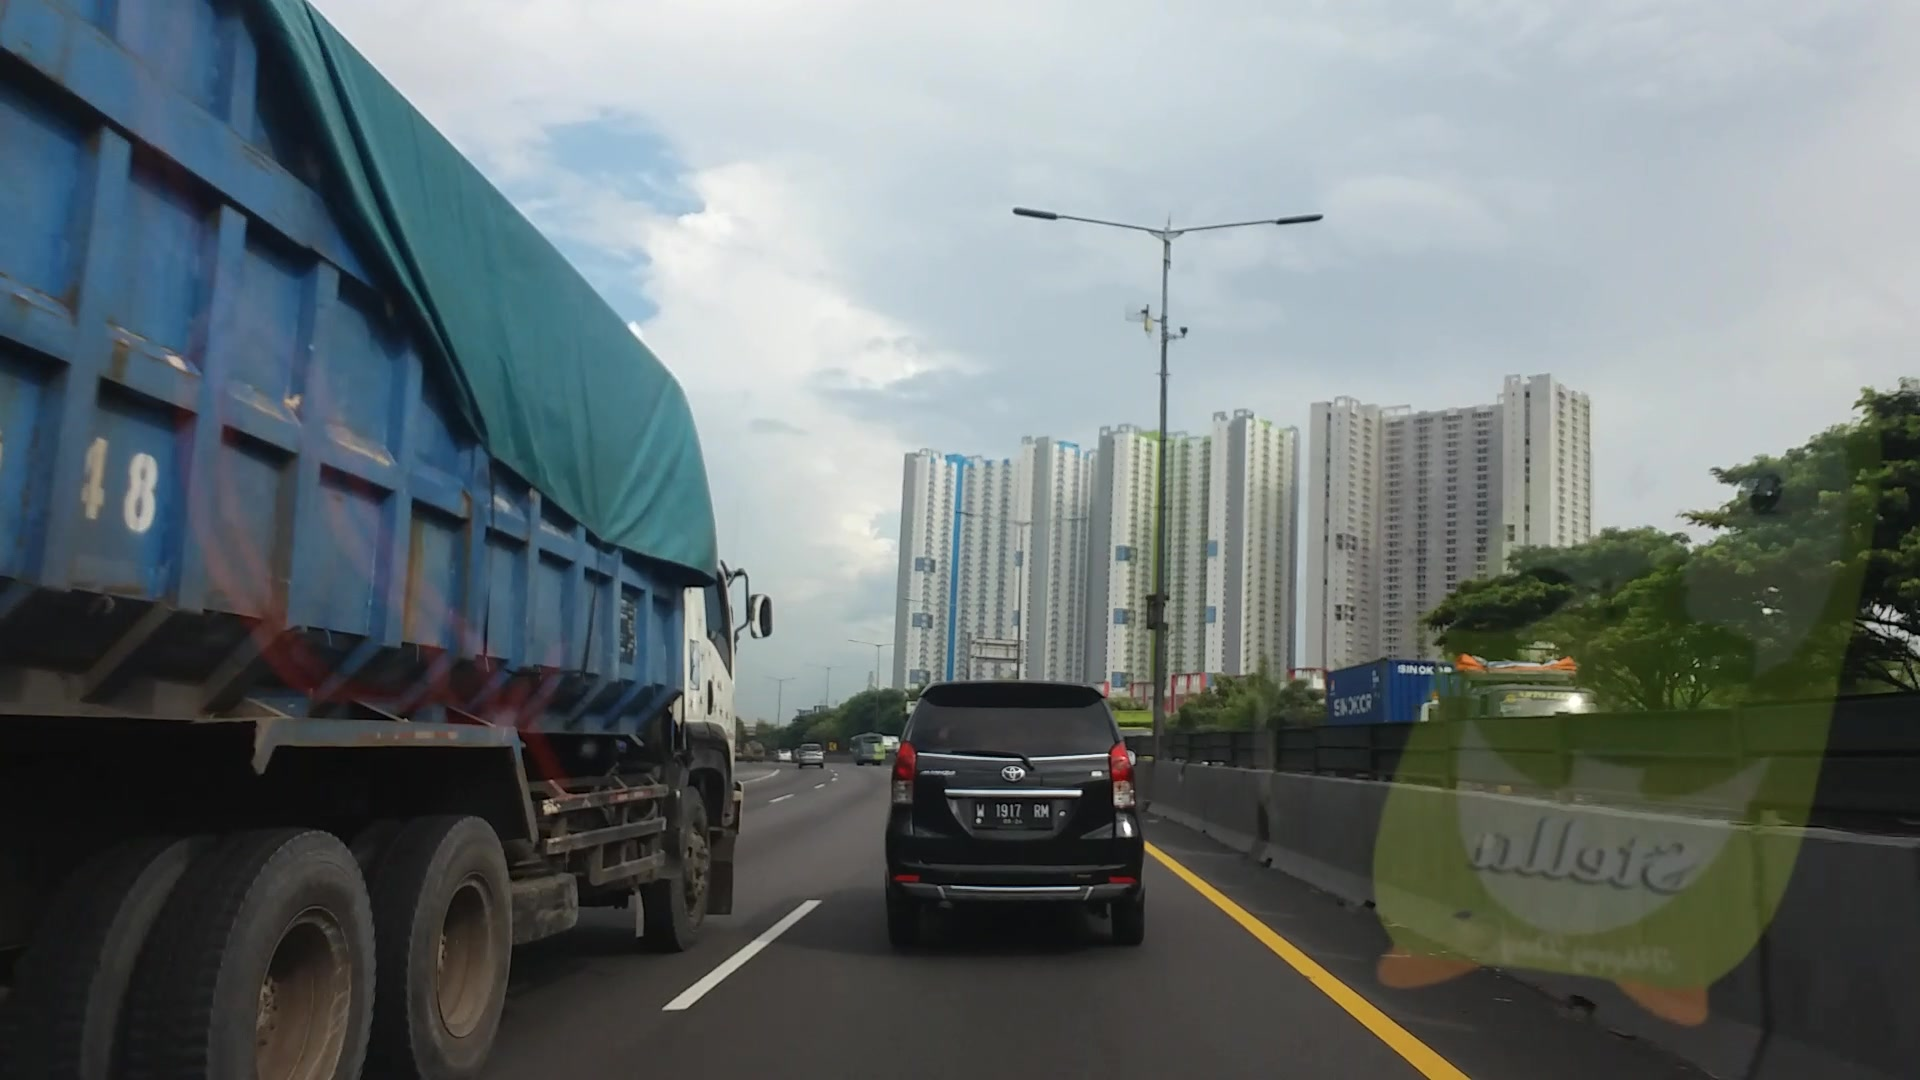plate_positive: (972, 800, 1051, 827)
